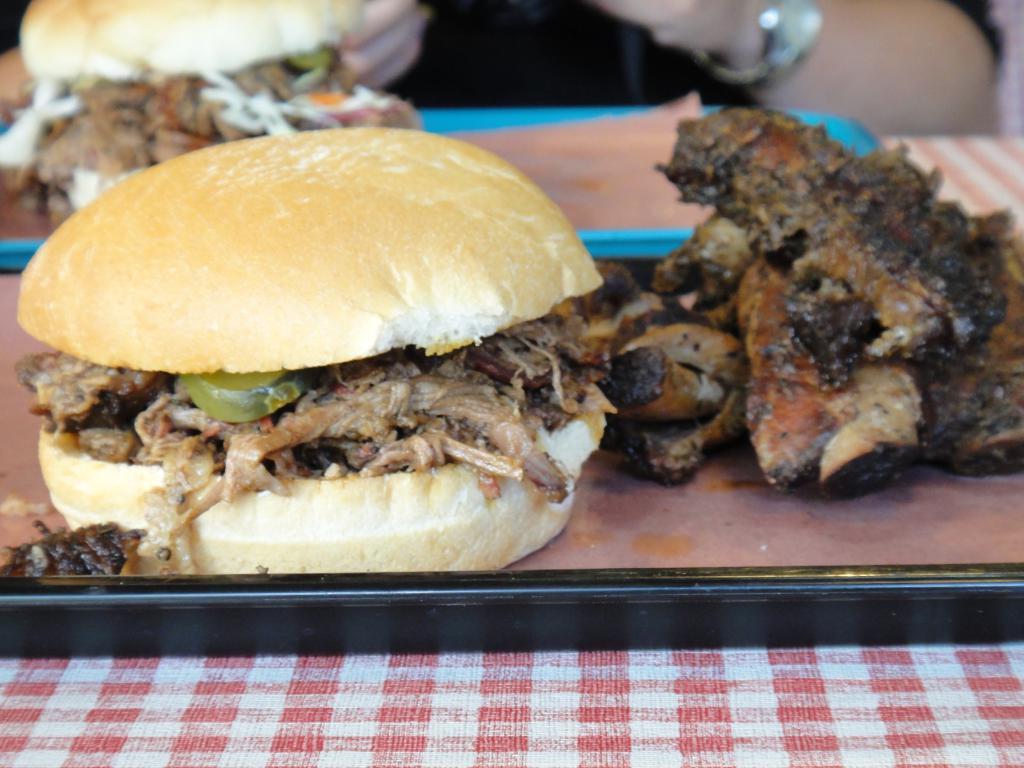Hamburger: (11, 128, 617, 576)
